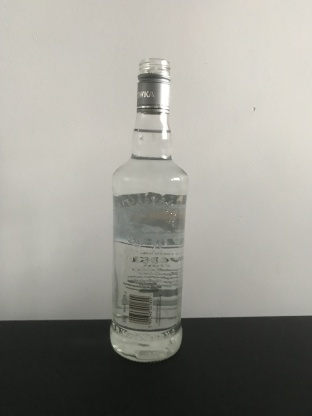nakretka: (135, 53, 173, 116)
